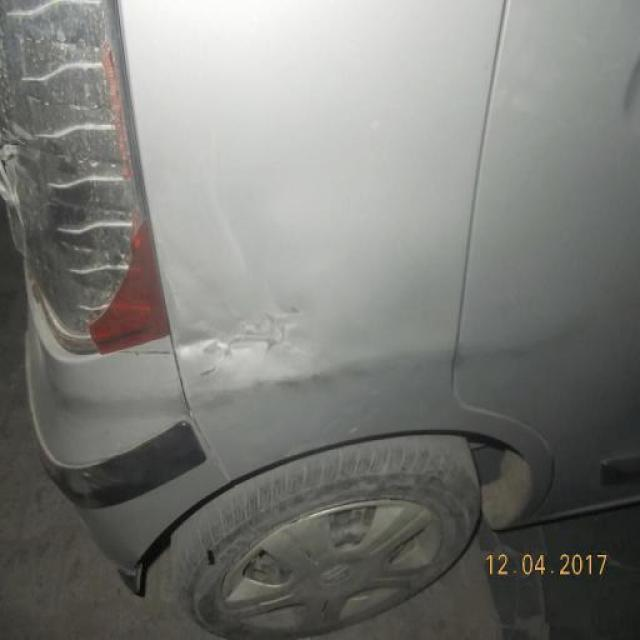car damage: (4, 1, 170, 355), (180, 292, 309, 386)
